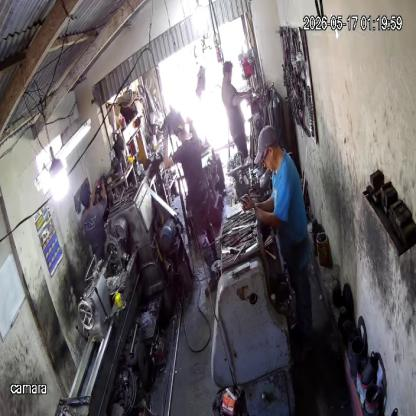lentes: (258, 146, 270, 166)
